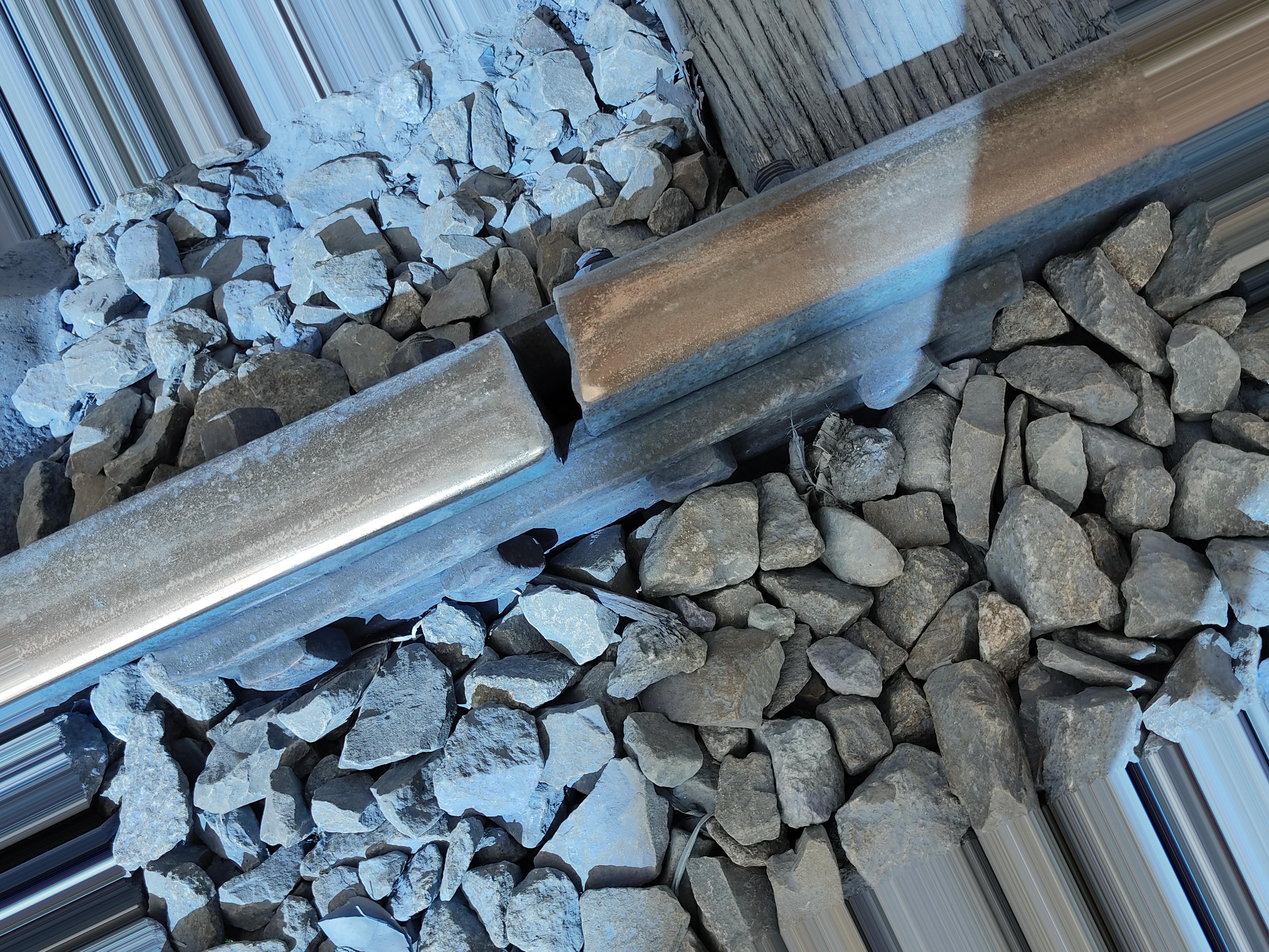tracks_fault: (457, 248, 632, 494)
